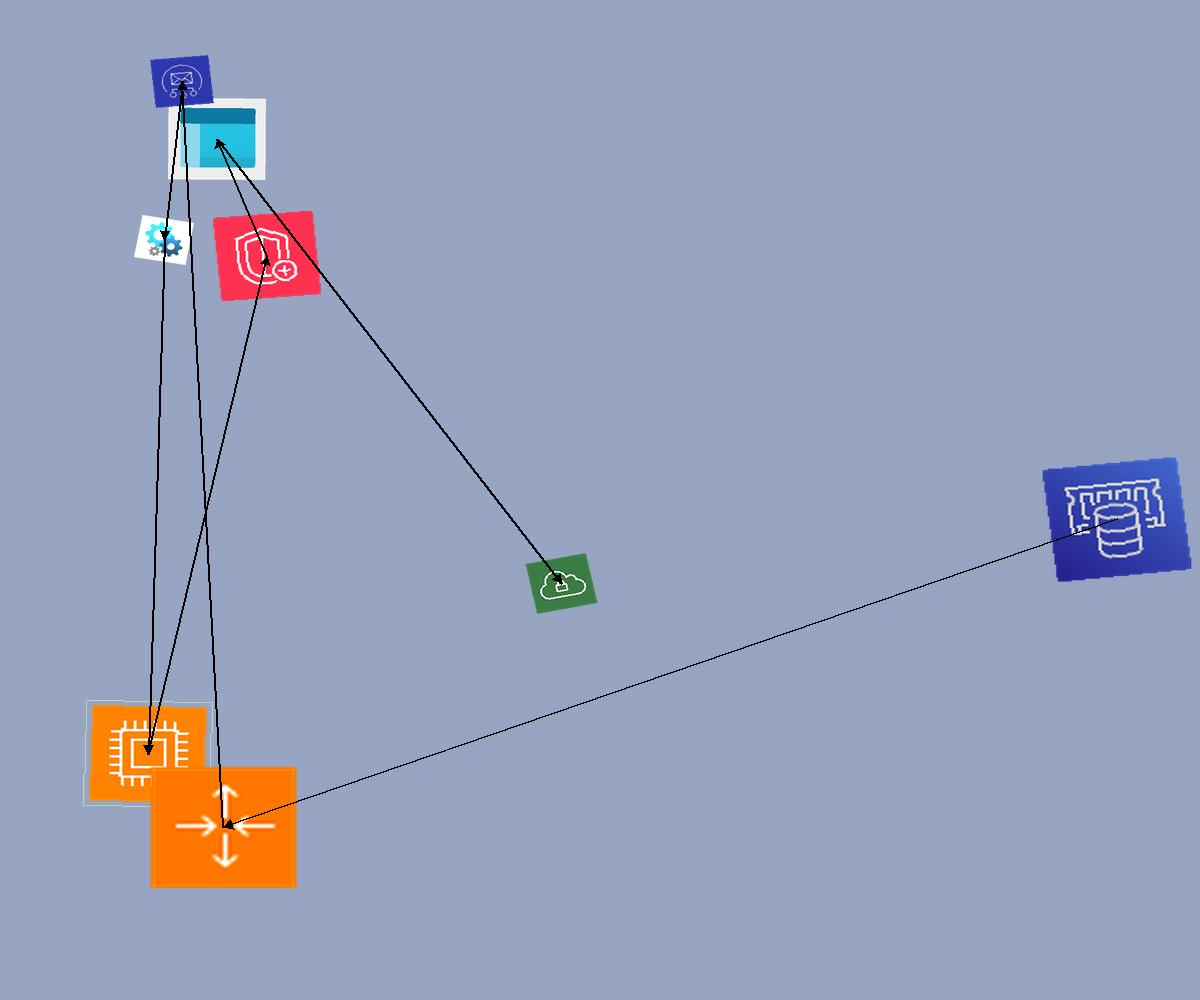AWS-Category_Compute: (81, 698, 215, 810)
AWS-ElastiCache: (1041, 456, 1193, 583)
AWS-Private_vpc: (525, 553, 598, 614)
AWS-Scaling-group: (147, 764, 300, 891)
AWS-Shield: (212, 210, 322, 302)
AWS-Simple-Email-Service: (150, 55, 214, 108)
Azure_api: (134, 215, 194, 265)
Azure_management-portal: (168, 98, 266, 180)
